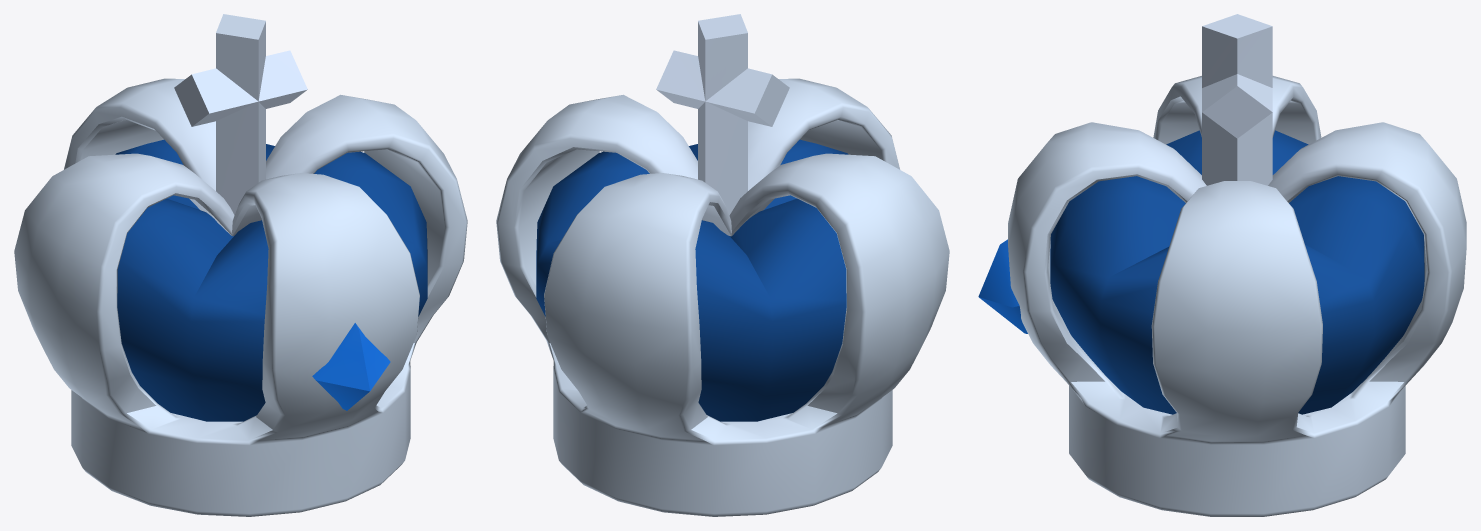
3 views of the same model, side by side, from view 1: azimuth 30°, elevation 25°; view 2: azimuth 150°, elevation 25°; view 3: azimuth 270°, elevation 25° (orthographic).
Visible parts, largest first — view 1: model_0.014; view 2: model_0.014; view 3: model_0.014.
Boxes of the visible parts, x1=… form: model_0.014: x1=14, y1=14, x2=467, y2=516; model_0.014: x1=496, y1=14, x2=949, y2=516; model_0.014: x1=978, y1=14, x2=1466, y2=516.
Bounding box in the file's own units: 3.79 × 3.84 × 4.04.
